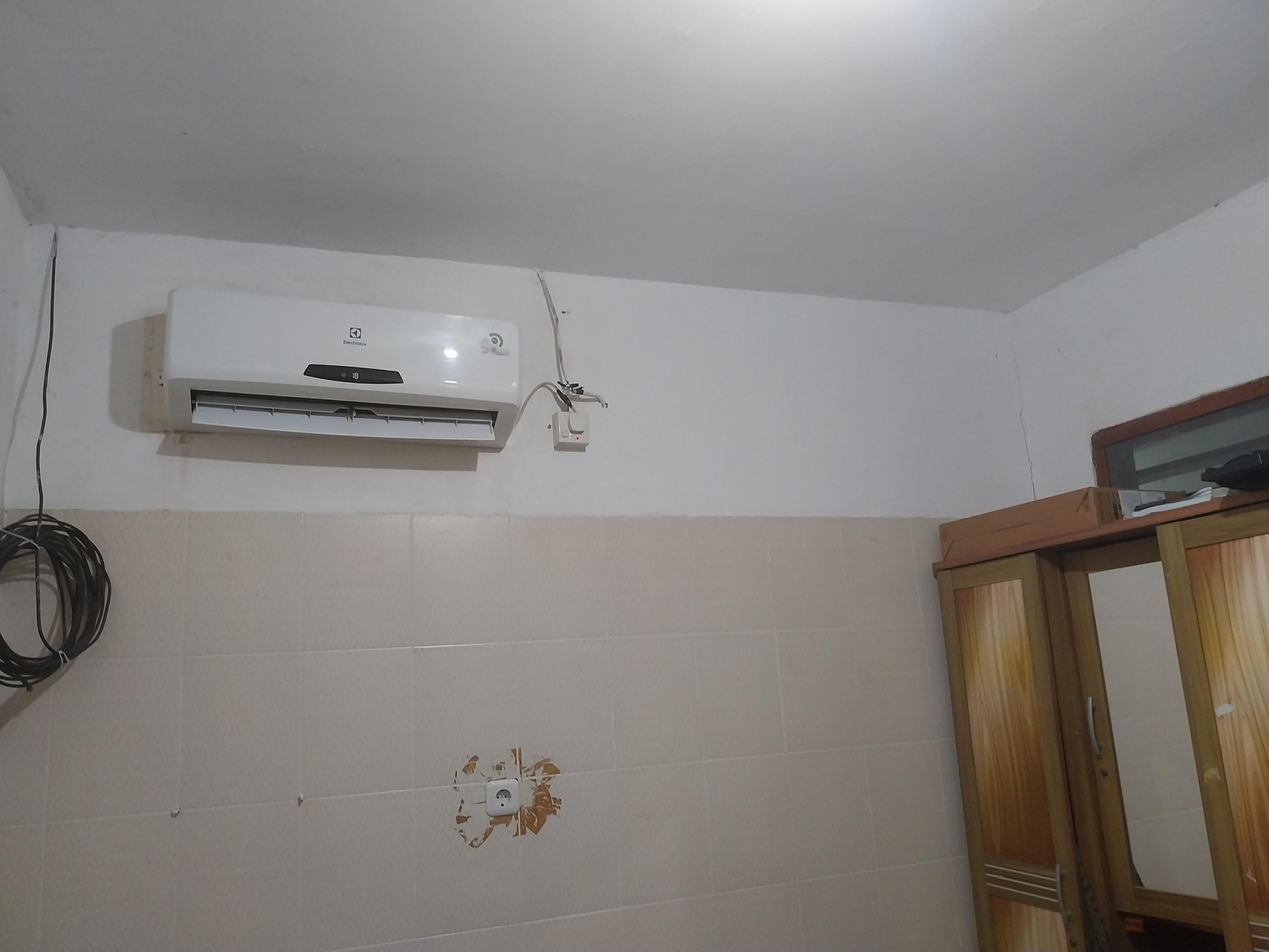cabinet-merged: (936, 494, 1269, 952)
wall: (0, 511, 977, 952), (41, 228, 1042, 564), (958, 179, 1269, 508)
